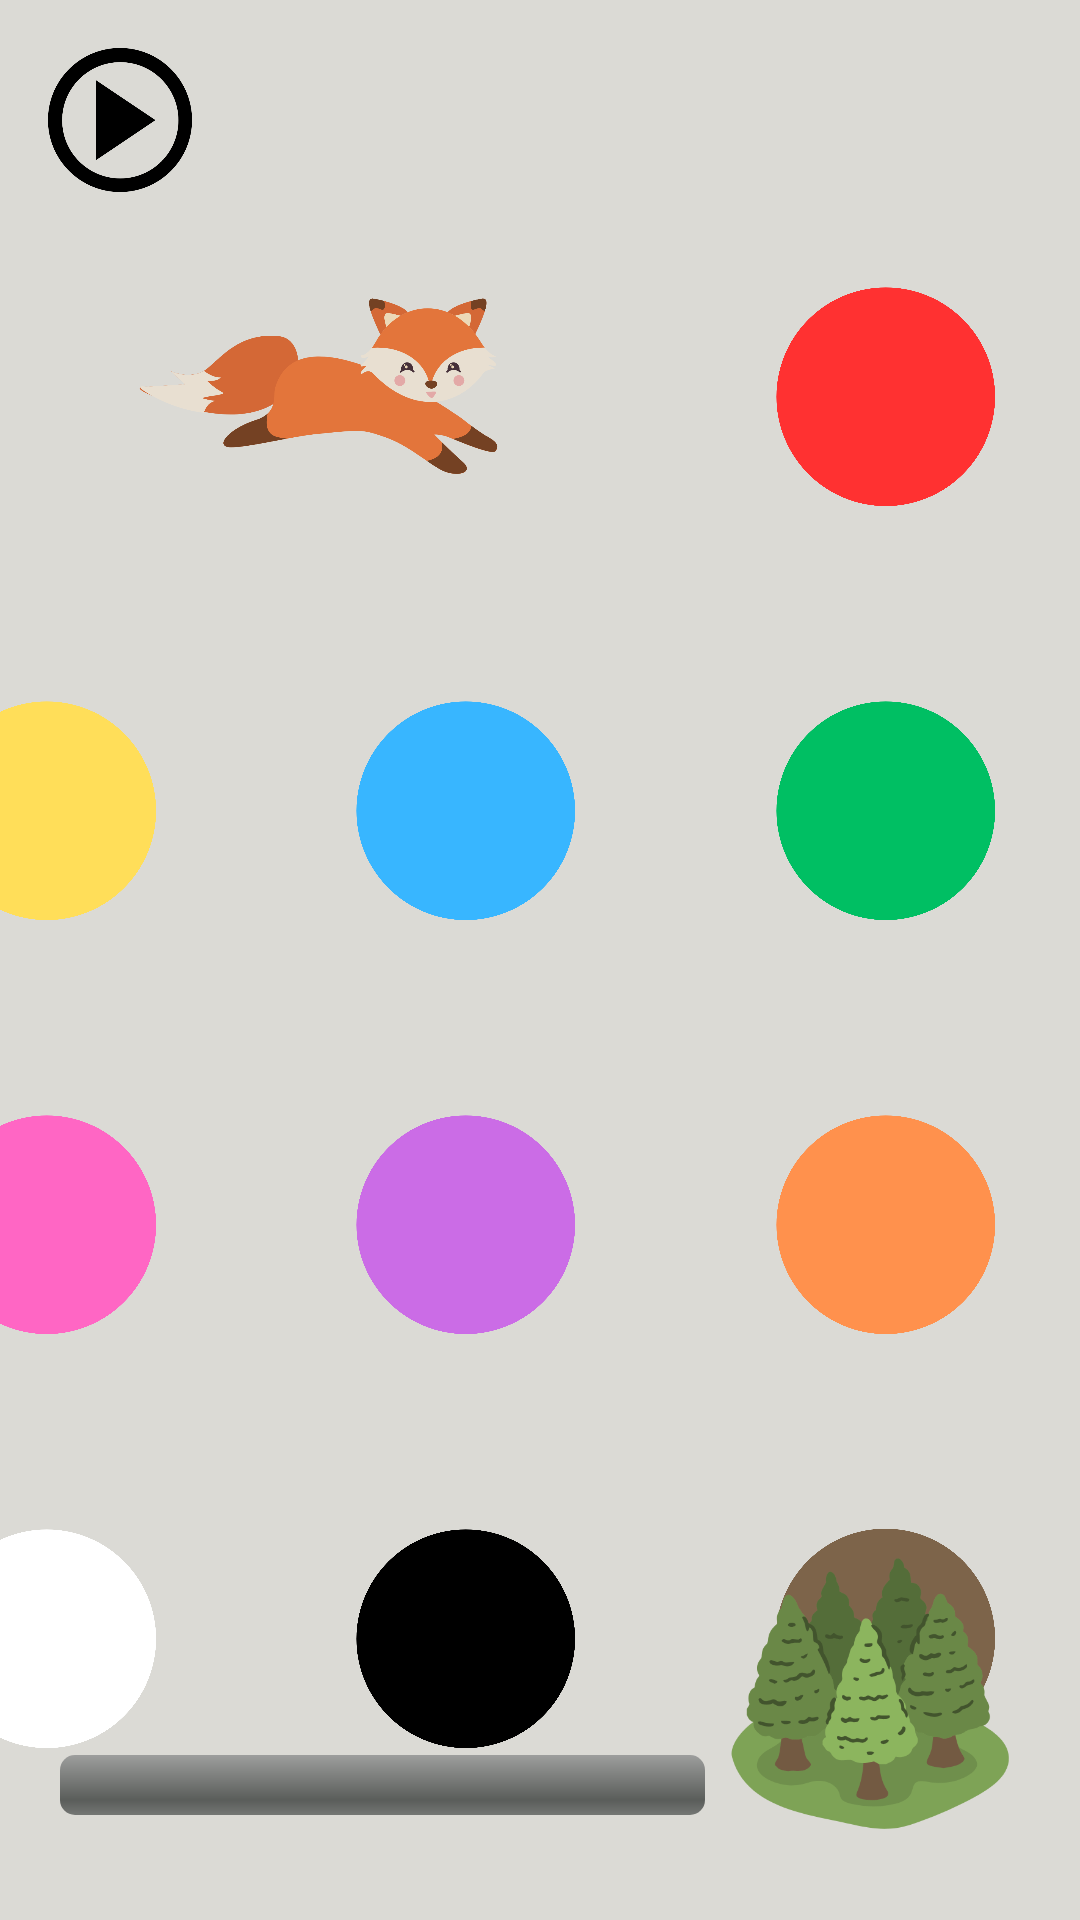

Point at icon controls on the screen. Image size 1080w x 1920h, points as point (x, y).
Play Button: point (120, 120)
